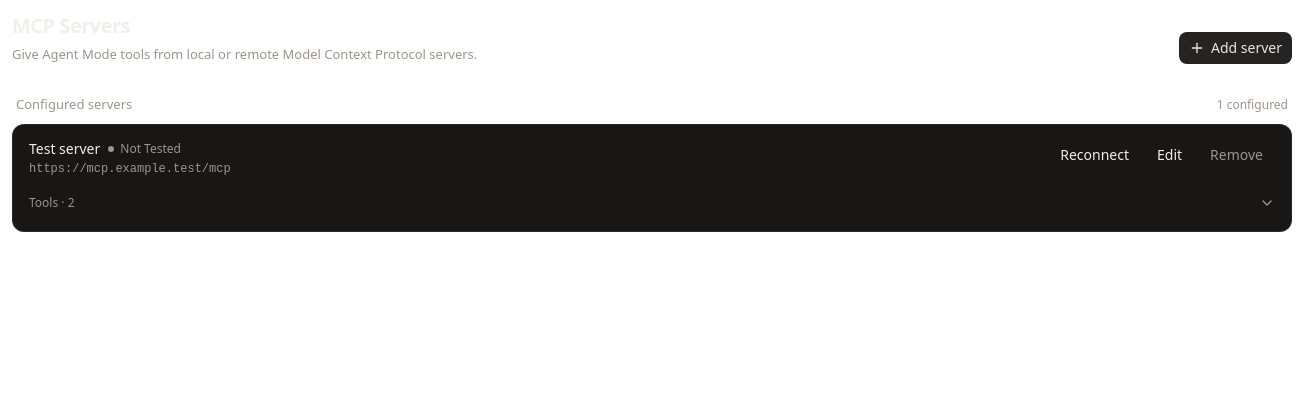
Test case: McpSettings tool policy collapse › starts collapsed and expands tool policies on demand
Click the button "Tools · 2" at (48, 202), box [21, 189, 1283, 217]
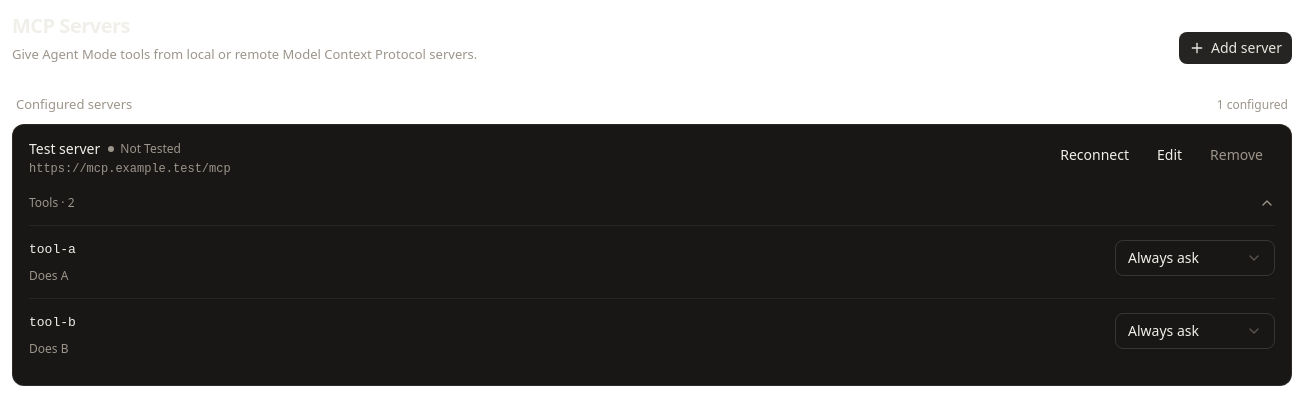
Result: the button "Tools · 2" is expanded at [21, 189, 1283, 217]
Result: the dropdown named "Approval policy for tool-a" is shown at [1115, 240, 1275, 276]
Result: the dropdown named "Approval policy for tool-b" is shown at [1115, 313, 1275, 349]
